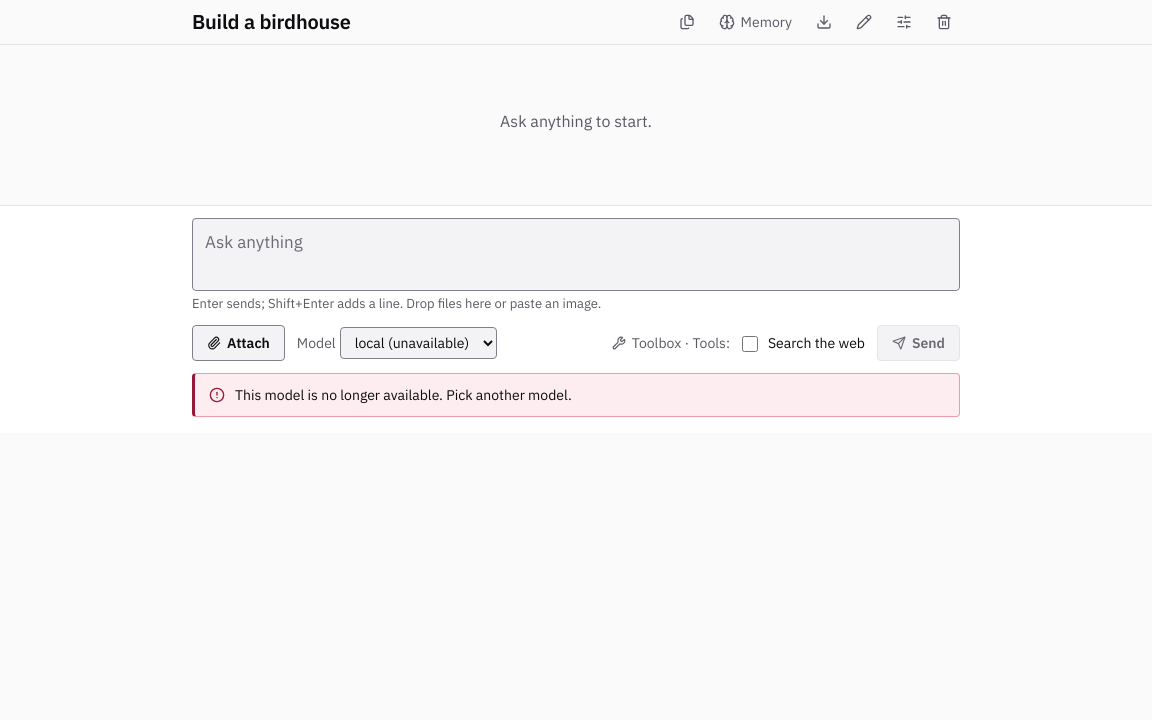
Test case: names the chat in the delete question and on the button
Click the button named "Delete this chat" at (944, 22), box [928,6,960,38]
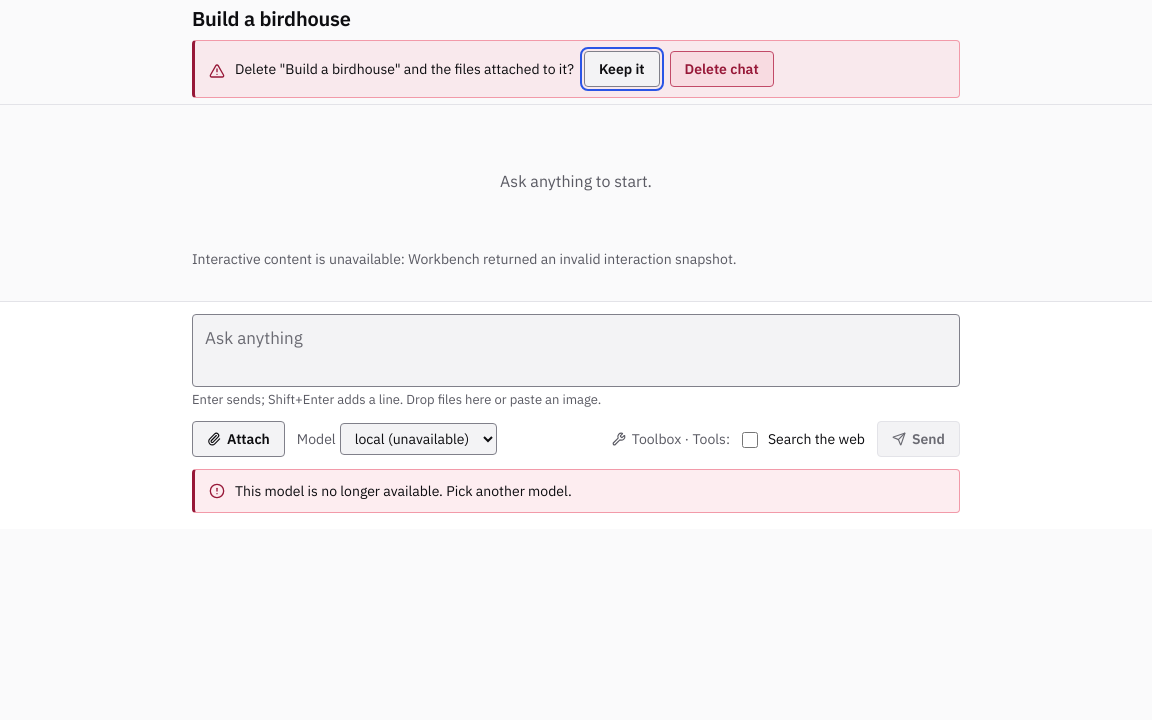
Result: the text "Delete \"Build a birdhouse\" and the files attached to it?" is shown at [235,60,574,78]
Result: the button "Delete chat" is shown at [670,51,774,87]
